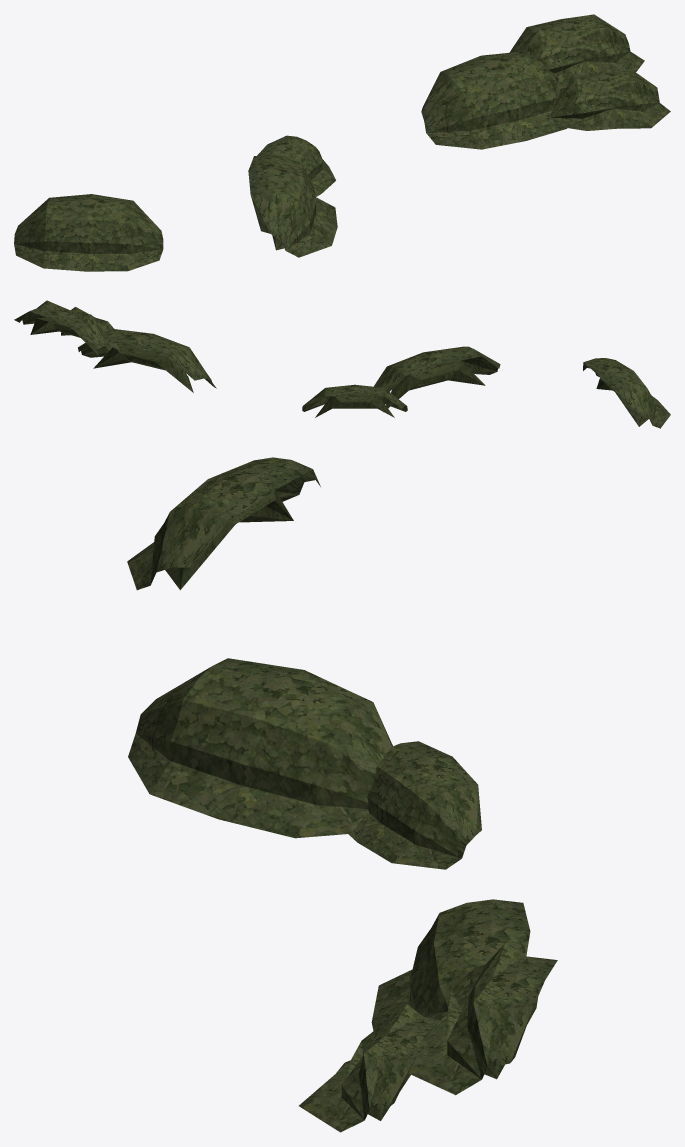
Rendered from plants_scrub.fbx.
3 views of the same model, one above another, from view 1: azimuth 30°, elevation 25°; view 2: azimuth 150°, elevation 25°; view 3: azimuth 270°, elevation 25° (orthographic). The views are drawn at different scales.
Visible parts, largest first — view 1: obj0.133; view 2: obj0.133; view 3: obj0.133.
Part boxes in pixels (x1=…): obj0.133: x1=14, y1=14, x2=670, y2=271; obj0.133: x1=14, y1=300, x2=670, y2=428; obj0.133: x1=127, y1=457, x2=557, y2=1132.
Size of the model in its own units: 29.64 by 3.4 by 9.33.
